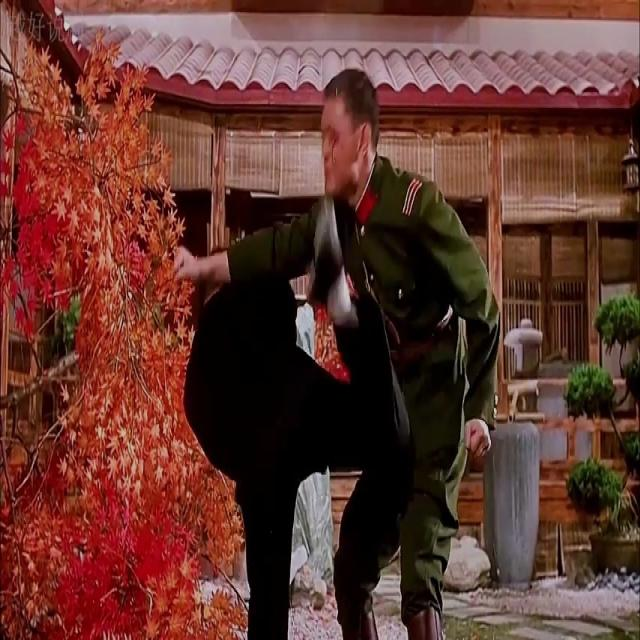fight: (173, 67, 502, 640)
